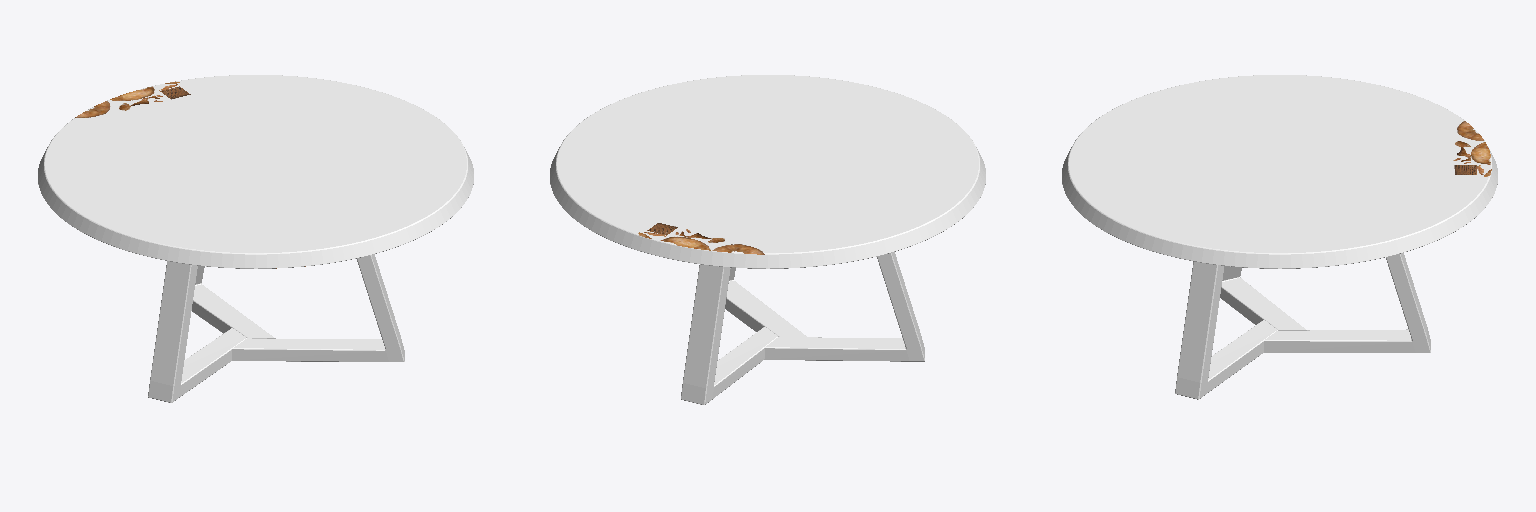
The picture shows the model from 3 angles: view 1: azimuth 30°, elevation 25°; view 2: azimuth 150°, elevation 25°; view 3: azimuth 270°, elevation 25°; orthographic projection.
Parts seen in each view (by area): view 1: diningtable; view 2: diningtable; view 3: diningtable.
Boxes of the visible parts, <box> form: diningtable: <box>38,75,473,402</box>; diningtable: <box>550,75,985,404</box>; diningtable: <box>1062,75,1497,399</box>.
Bounding box in the file's own units: 155 × 71.91 × 155.
Materials: 1 (1 with a texture image).